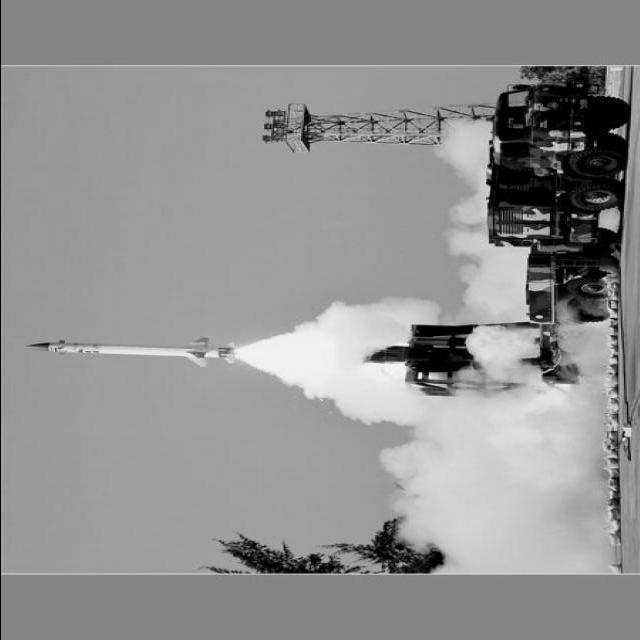missile: (21, 337, 242, 362)
